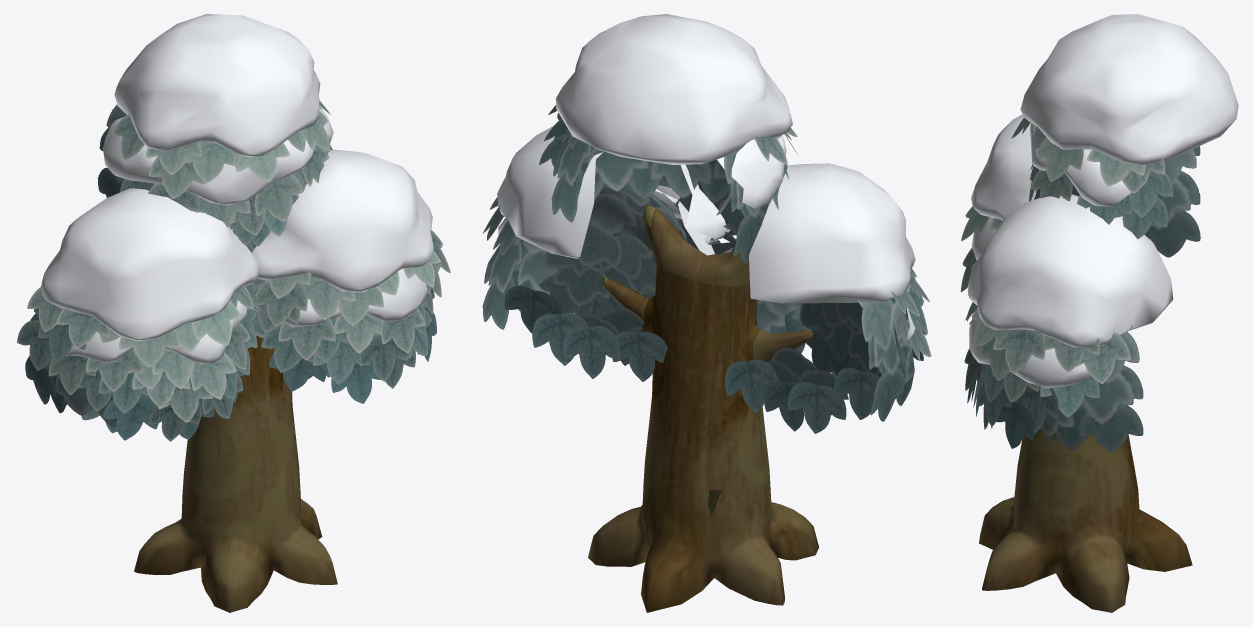
The model's file is oak-winter.glb.
3 renders of one model, left to right at view 1: azimuth 30°, elevation 25°; view 2: azimuth 150°, elevation 25°; view 3: azimuth 270°, elevation 25°, orthographic. The views are drawn at different scales.
Size of the model in its own units: 27.64 by 34.75 by 16.14.
Materials: 4 (3 with a texture image).
